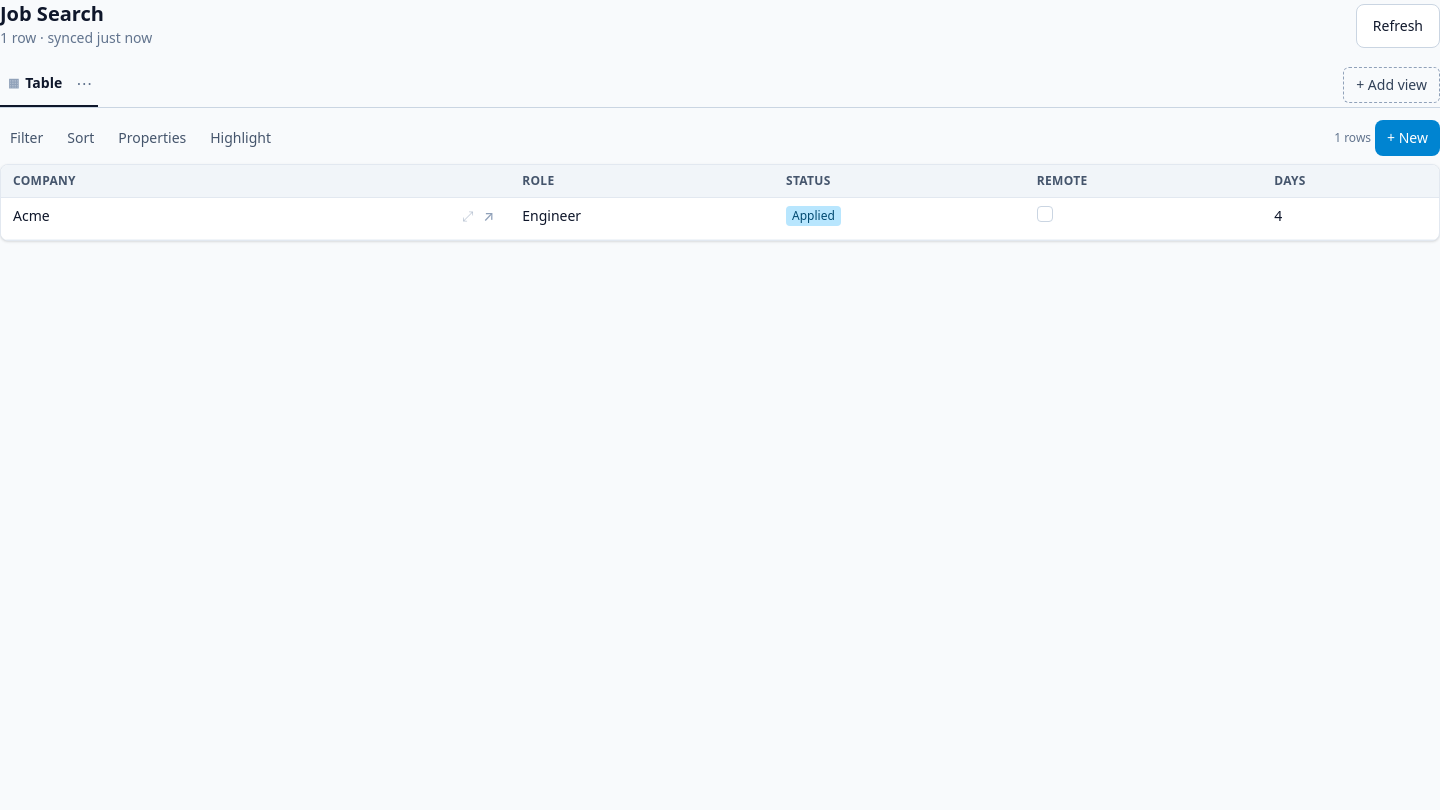
Test: DatabaseView editing › "Keep Notion's" leaves Notion's value on screen and writes nothing
This screenshot has width=1440, height=810.
Click the cell named "Edit Role" at (642, 219), box [510, 198, 774, 240]
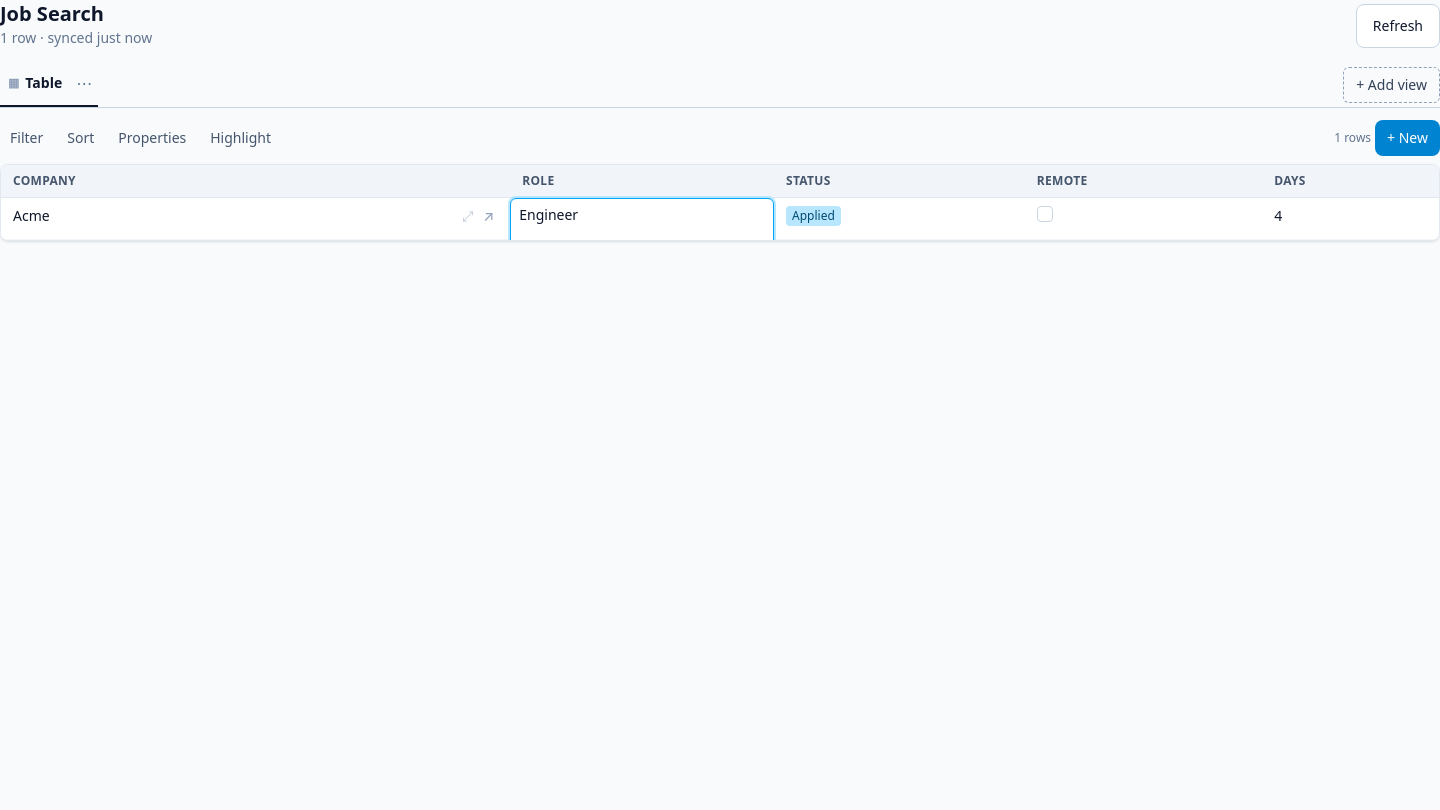
Type "x" into the text box named "Role" at (642, 225), box [510, 198, 774, 252]
Then press Enter
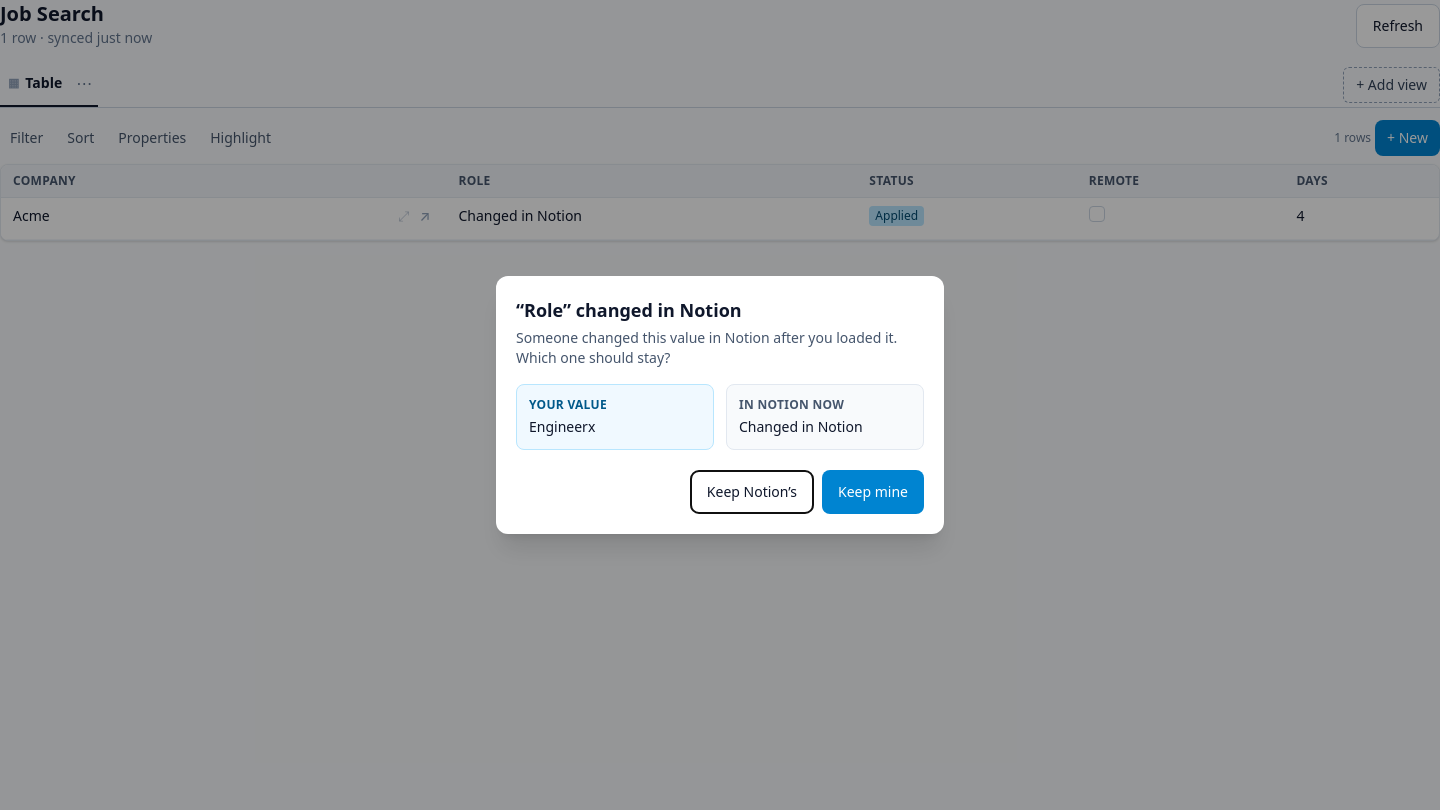
Click the button "Keep Notion’s" at (752, 492), box [690, 470, 814, 514]
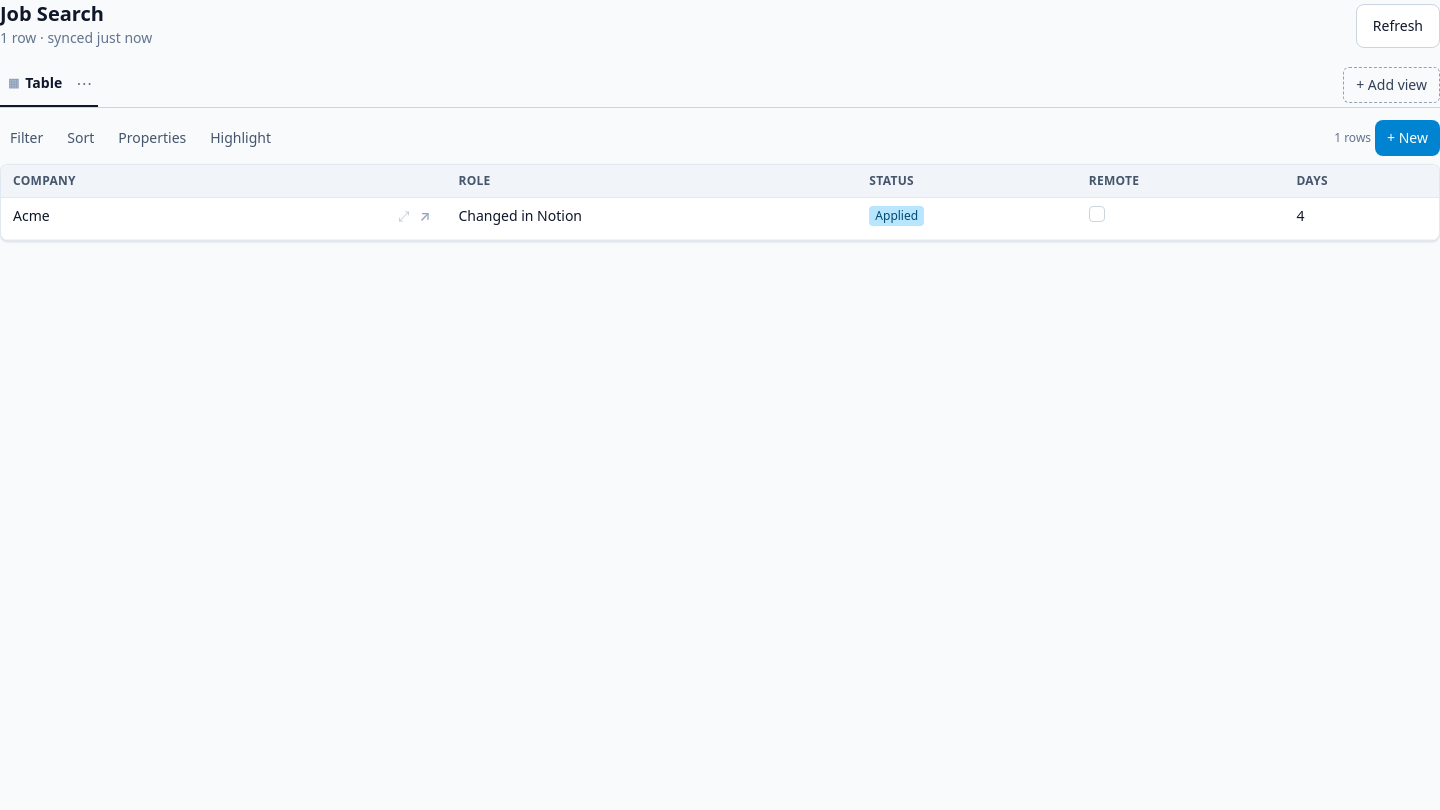
Result: the text "Changed in Notion" is shown at [458, 206, 582, 225]
Result: the dialog is gone
